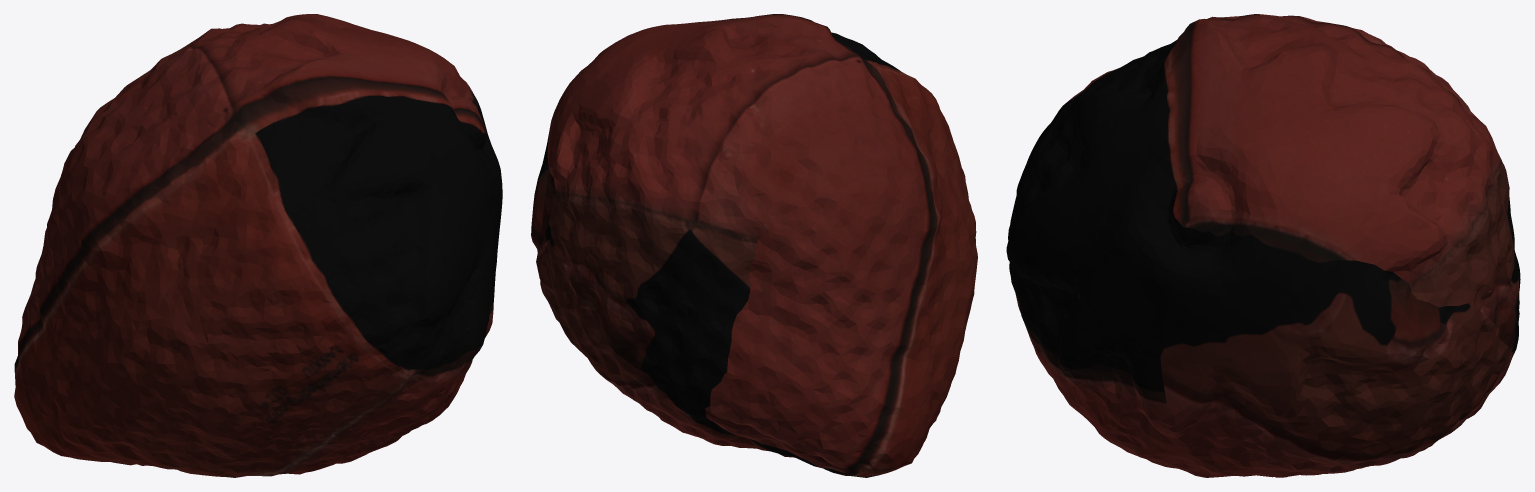
3 renders of one model, left to right at view 1: azimuth 30°, elevation 25°; view 2: azimuth 150°, elevation 25°; view 3: azimuth 270°, elevation 25°, orthographic. The views are drawn at different scales.
Bounding box in the file's own units: 0.0467 × 0.0428 × 0.0463.
